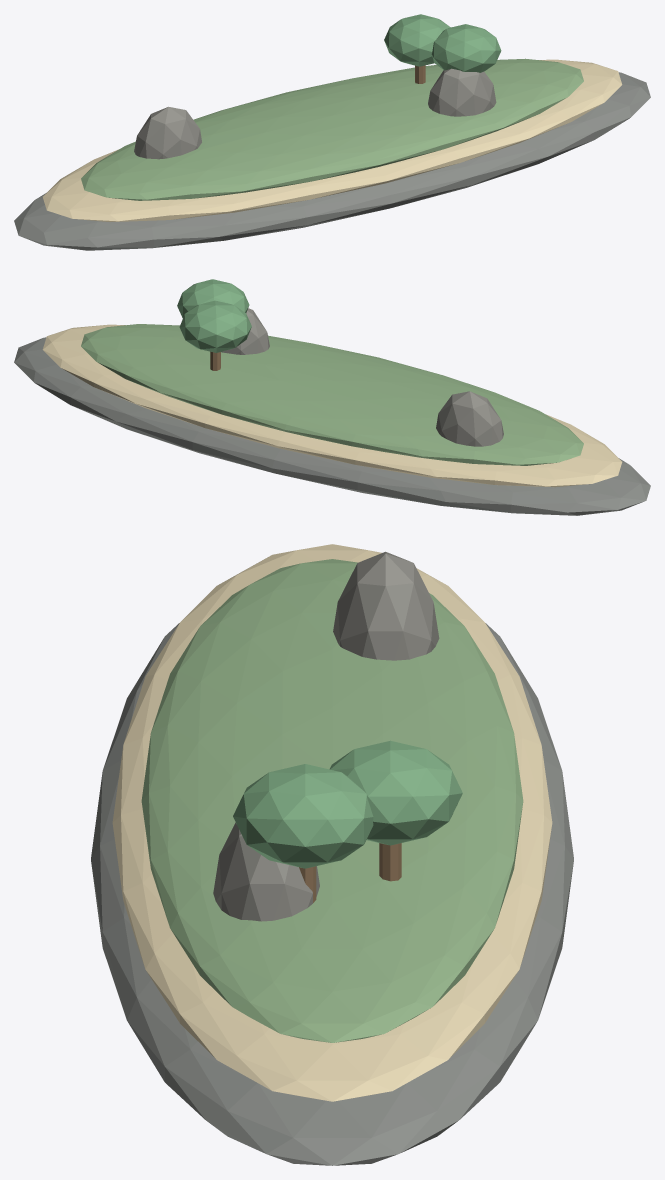
File: island_sandbar_long_m201.glb
3 views of the same model, one above another, from view 1: azimuth 30°, elevation 25°; view 2: azimuth 150°, elevation 25°; view 3: azimuth 270°, elevation 25° (orthographic). The views are drawn at different scales.
Visible parts, largest first — view 1: Ground, Rock, Sand, Cliff0, Cliff1, Foliage0, Foliage1; view 2: Ground, Rock, Sand, Cliff0, Foliage1, Foliage0, Cliff1; view 3: Ground, Sand, Rock, Foliage0, Cliff0, Foliage1, Cliff1.
Boxes of the visible parts, box(x1,y1,x2,y2) form: Ground: box(81, 58, 583, 200); Rock: box(14, 72, 650, 250); Sand: box(43, 59, 622, 221); Cliff0: box(134, 106, 201, 159); Cliff1: box(428, 68, 496, 116); Foliage0: box(431, 24, 501, 72); Foliage1: box(384, 14, 450, 66); Ground: box(81, 324, 583, 465); Rock: box(14, 337, 650, 515); Sand: box(42, 324, 622, 487); Cliff0: box(436, 391, 503, 446); Foliage1: box(179, 300, 251, 352); Foliage0: box(177, 279, 249, 318); Cliff1: box(221, 308, 269, 354); Ground: box(141, 559, 523, 1042); Sand: box(112, 544, 552, 1101); Rock: box(91, 623, 573, 1165); Foliage0: box(233, 764, 373, 868); Cliff0: box(333, 551, 439, 660); Foliage1: box(329, 740, 462, 845); Cliff1: box(213, 822, 319, 921).
Size of the model in its own units: 14.4 by 2.83 by 4.8.
